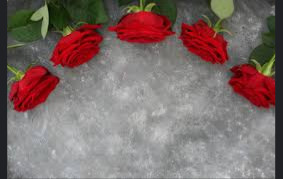RedRose: (49, 21, 112, 69), (180, 11, 230, 66), (111, 6, 174, 45), (7, 61, 56, 111), (230, 62, 277, 111)
